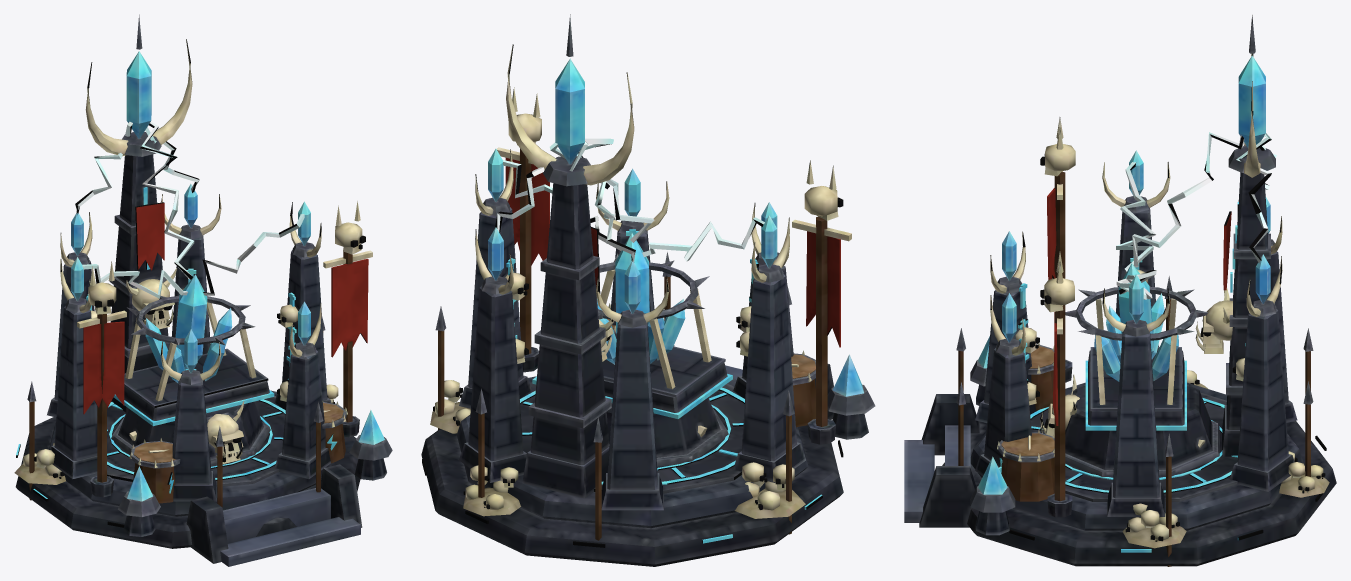
File: storm_altar.glb
The picture shows the model from 3 angles, left to right: view 1: azimuth 30°, elevation 25°; view 2: azimuth 150°, elevation 25°; view 3: azimuth 270°, elevation 25°; orthographic projection. The views are drawn at different scales.
Parts seen in each view (by area): view 1: Static_Mesh, Anim_Banners; view 2: Static_Mesh, Anim_Banners; view 3: Static_Mesh, Anim_Banners.
Boxes of the visible parts, x1,y1,x2,y2 form: Static_Mesh: (14, 14, 392, 566); Anim_Banners: (83, 202, 368, 414); Static_Mesh: (421, 14, 875, 566); Anim_Banners: (505, 158, 840, 347); Static_Mesh: (904, 15, 1336, 566); Anim_Banners: (1047, 188, 1231, 425).
Size of the model in its own units: 6.58 by 8.55 by 7.08.
Materials: 2 (2 with a texture image).
